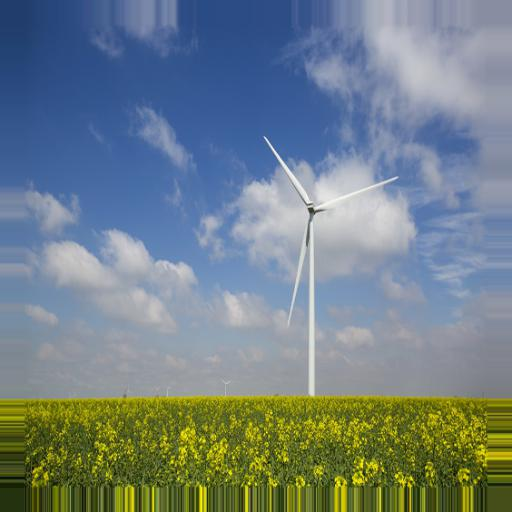wind turbine: (262, 133, 400, 394)
